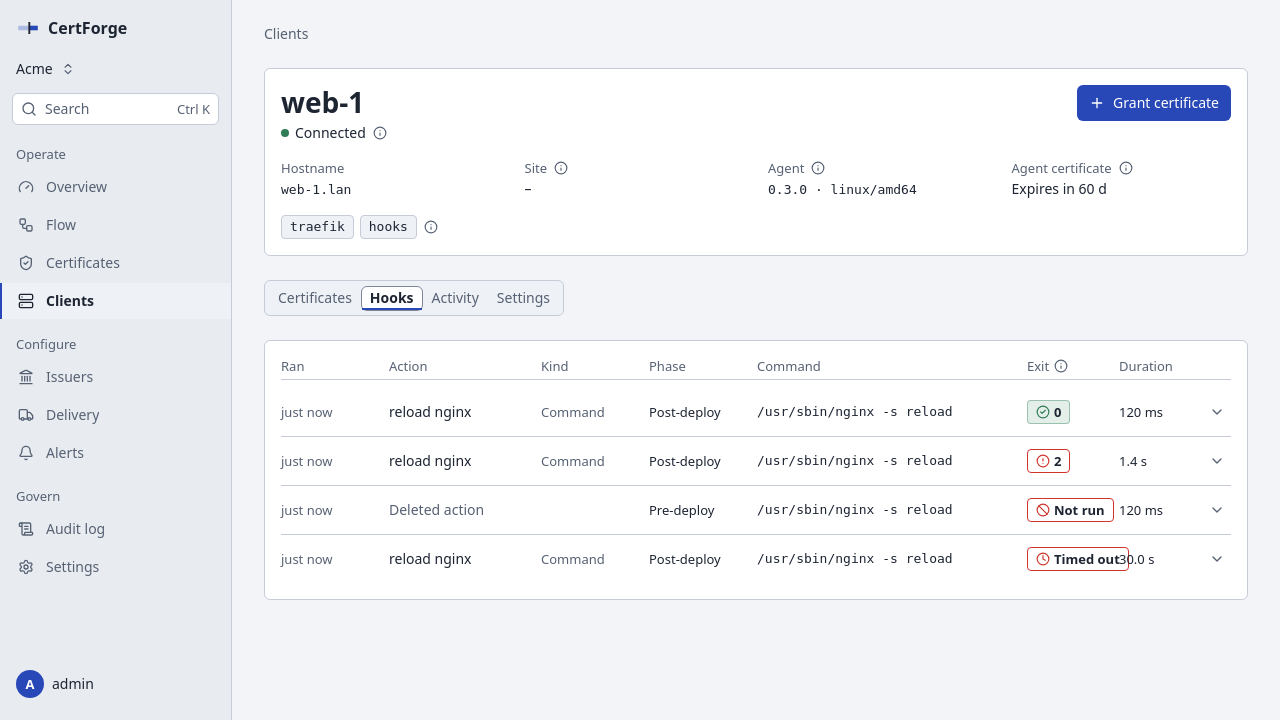
Test: lists action runs with exit, kind, phase, command and output
Expected: the text "0" is shown, left=1027, top=400, right=1070, bottom=424
Expected: the 1st link "reload nginx" is shown, left=389, top=402, right=472, bottom=421
Click the button named "Output of reload nginx" next to "1.4 s".
click(1217, 461)  # box left=1203, top=447, right=1231, bottom=475
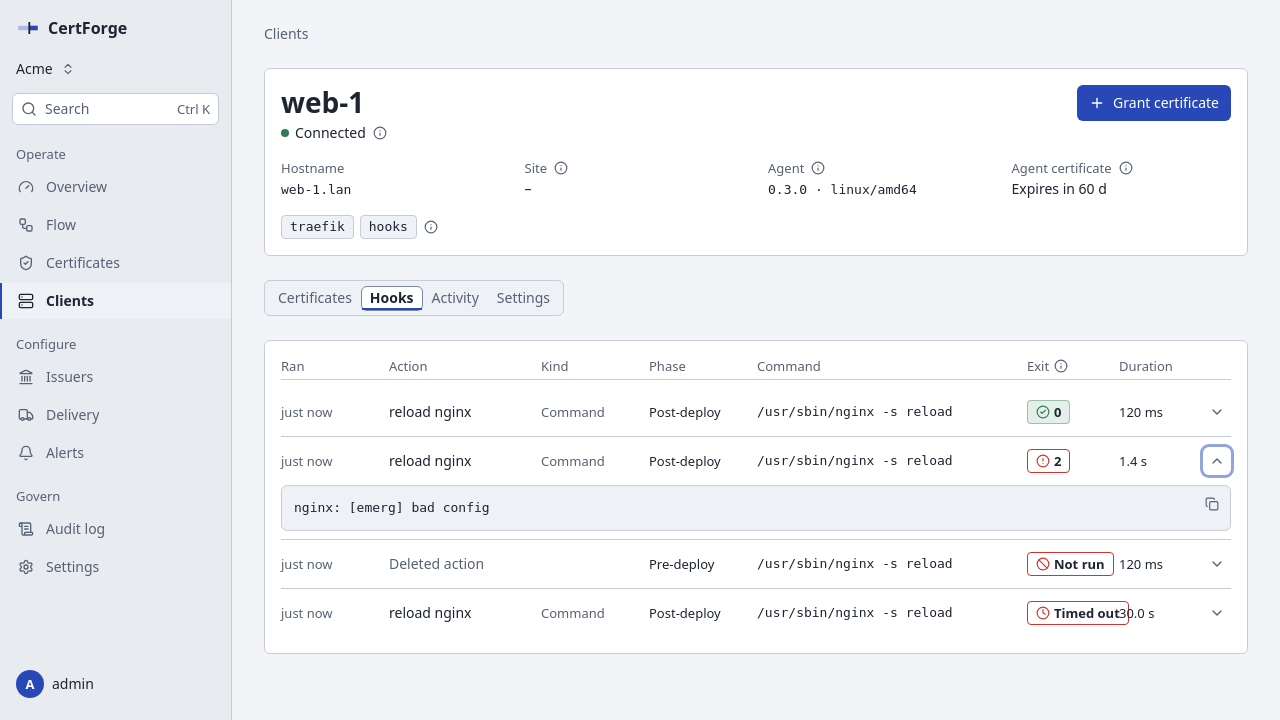
Result: the text named "stderr" reads "nginx: [emerg] bad config" at left=294, top=500, right=490, bottom=515
